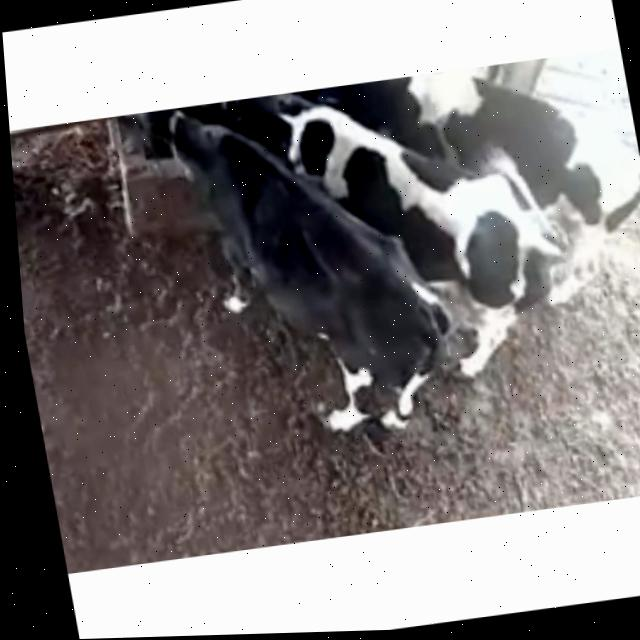drink: (116, 100, 242, 174), (211, 88, 329, 152), (275, 78, 401, 134)
